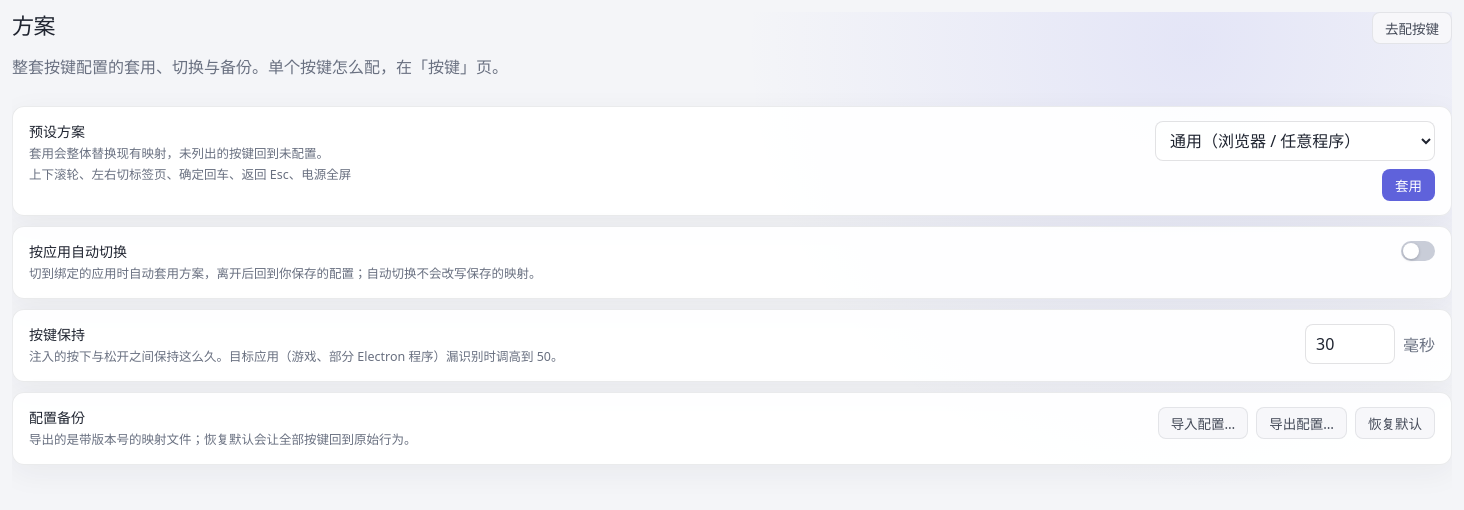
方案页 › 预设方案：选择后套用整套映射
Select "阅读（网页 / 文档）" in the dropdown with id "mapping-preset" at (1295, 141), box [1155,121,1435,161]
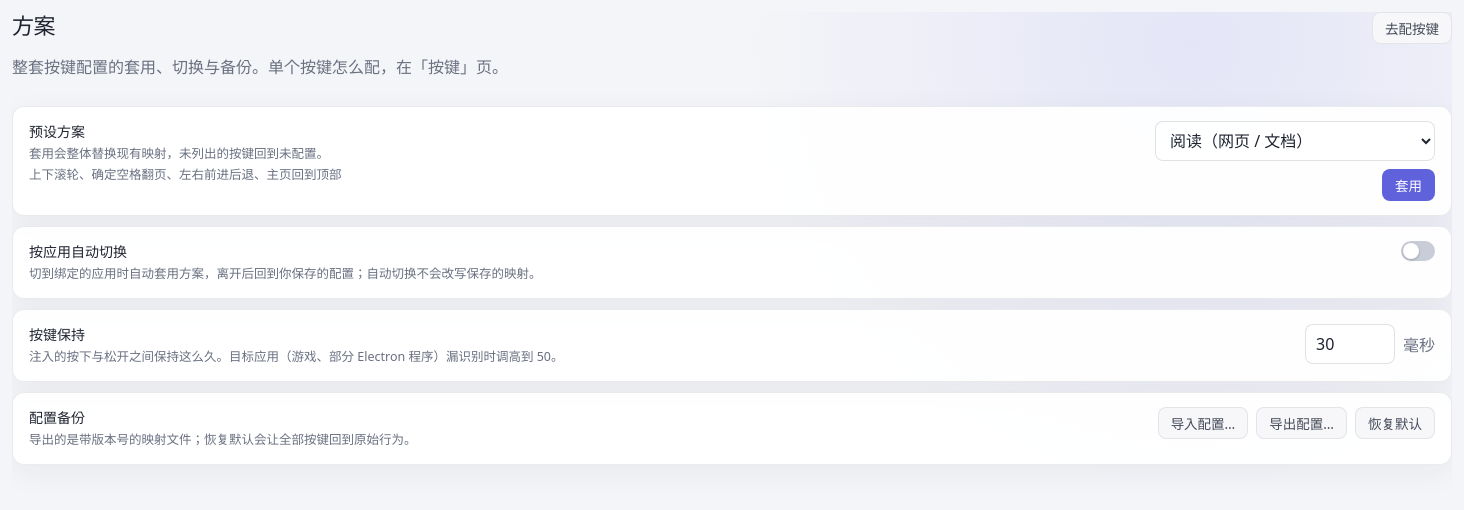
Click the button "套用".
click(1408, 185)  # box [1382,169,1435,201]
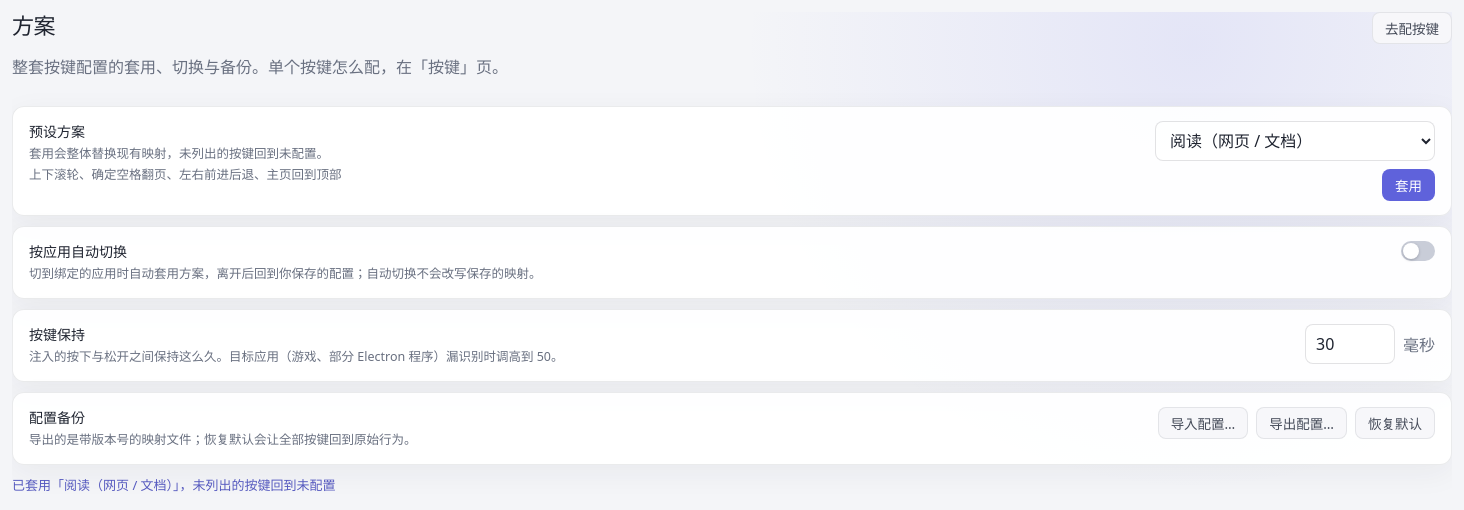
Result: the text "已套用" is shown at [12,476,336,494]
